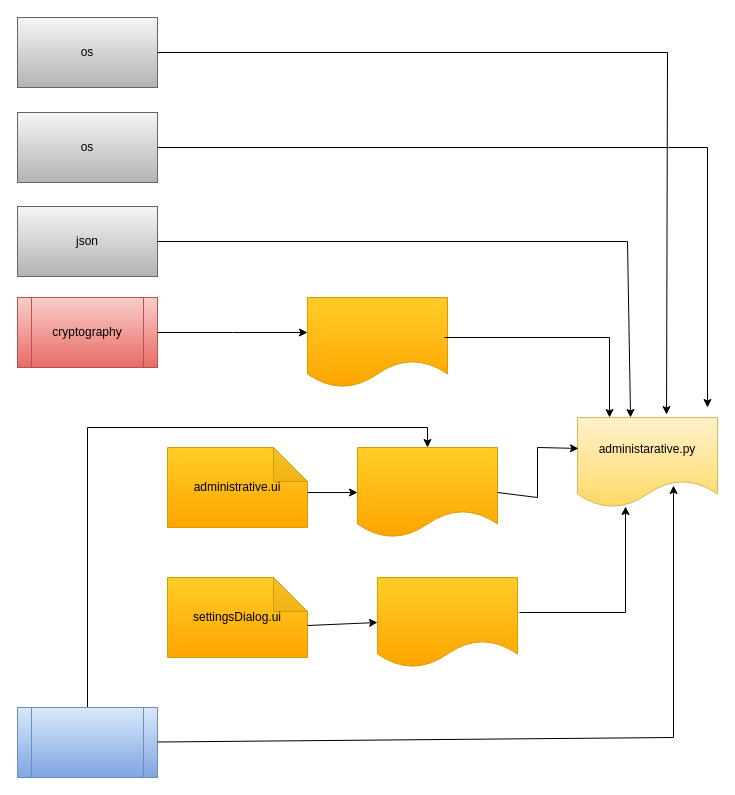
This 735x795 diagram has some shape labels left out. Each missing label, with the centre of its shape:
"administarative_ui.py" goes at point (427, 492).
"cipher.py" goes at point (377, 342).
"PySide6" goes at point (87, 742).
"settingsDialog_ui.py" goes at point (447, 622).
